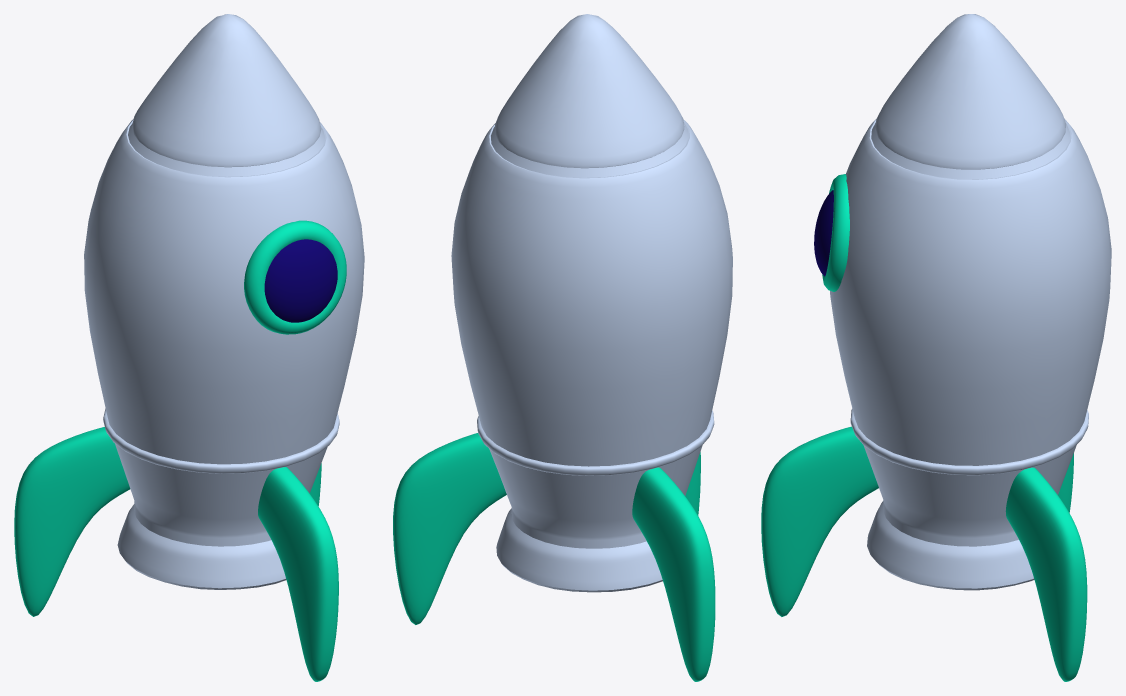
Rendered from raketa.glb.
3 renders of one model, left to right at view 1: azimuth 30°, elevation 25°; view 2: azimuth 150°, elevation 25°; view 3: azimuth 270°, elevation 25°, orthographic.
Parts seen in each view (by area): view 1: Cylinder.021, Cube.056, Cube.035, Sphere.004, Torus.007; view 2: Cylinder.021, Cube.036, Cube.056, Cube.035; view 3: Cylinder.021, Cube.035, Cube.036, Torus.007, Sphere.004.
Boxes of the visible parts, <box> form: Cylinder.021: <box>84,14,364,589</box>; Cube.056: <box>14,427,130,616</box>; Cube.035: <box>258,467,338,681</box>; Sphere.004: <box>264,239,337,322</box>; Torus.007: <box>244,220,346,334</box>; Cylinder.021: <box>451,14,732,592</box>; Cube.036: <box>393,433,506,624</box>; Cube.056: <box>632,467,715,681</box>; Cube.035: <box>685,452,700,515</box>; Cylinder.021: <box>830,14,1111,590</box>; Cube.035: <box>761,426,878,616</box>; Cube.036: <box>1005,467,1087,681</box>; Torus.007: <box>822,174,849,291</box>; Sphere.004: <box>814,190,833,276</box>.
Size of the model in its own units: 2.37 by 4.37 by 2.29.
